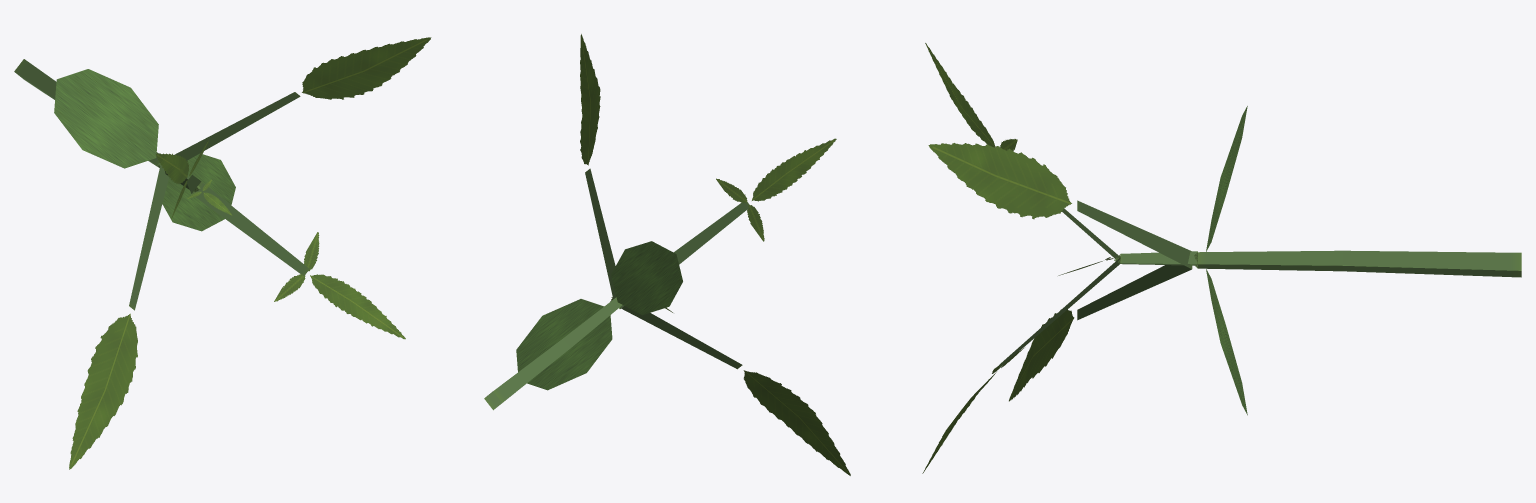
The model's file is p_seedling_c0_cards.obj.
The picture shows the model from 3 angles, left to right: view 1: azimuth 30°, elevation 25°; view 2: azimuth 150°, elevation 25°; view 3: azimuth 270°, elevation 25°; orthographic projection. The views are drawn at different scales.
Size of the model in its own units: 0.447 by 0.486 by 0.546.
Materials: 1 (1 with a texture image).
